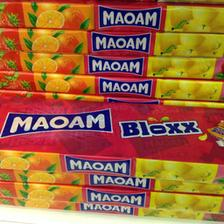Suessigkeit: (0, 100, 220, 212), (0, 0, 218, 102)
